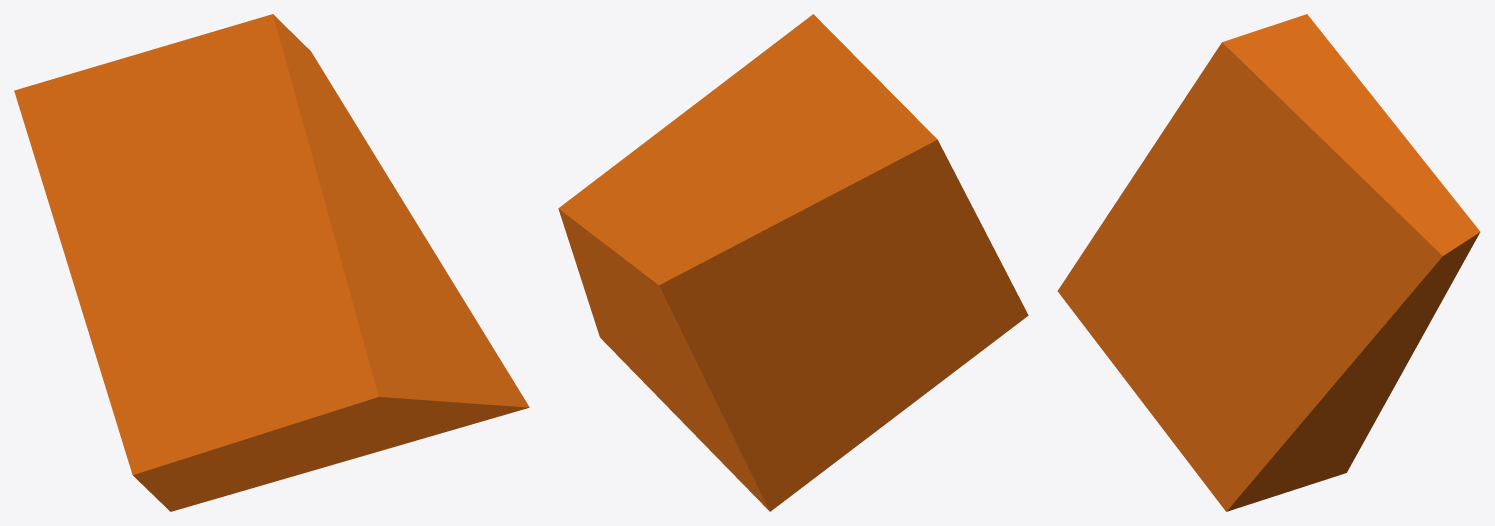
Rendered from lava_brick_03.fbx.
The picture shows the model from 3 angles, left to right: view 1: azimuth 30°, elevation 25°; view 2: azimuth 150°, elevation 25°; view 3: azimuth 270°, elevation 25°; orthographic projection. The views are drawn at different scales.
Parts seen in each view (by area): view 1: lava_brick_03; view 2: lava_brick_03; view 3: lava_brick_03.
Boxes of the visible parts, box(x1,y1,x2,y2) form: lava_brick_03: box(14, 14, 529, 511); lava_brick_03: box(558, 14, 1028, 511); lava_brick_03: box(1057, 14, 1480, 511).
Size of the model in its own units: 64.18 by 72.34 by 62.99.
